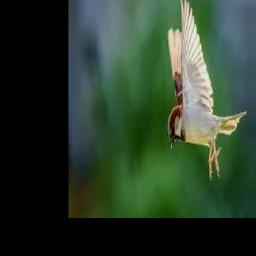Sparrow: (166, 0, 247, 179)
